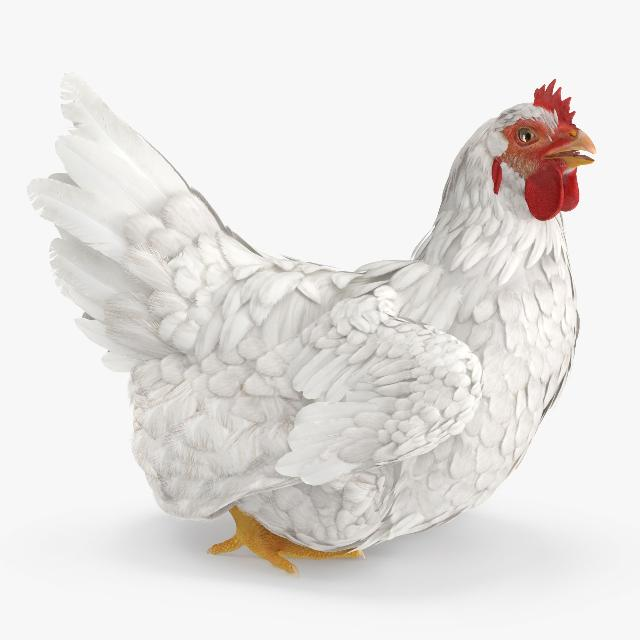Chicken: (25, 73, 600, 578)
